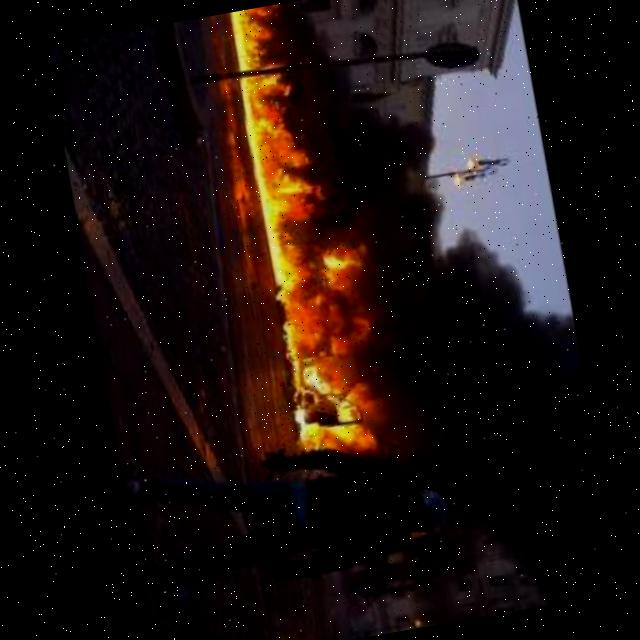fire: (200, 0, 434, 485)
